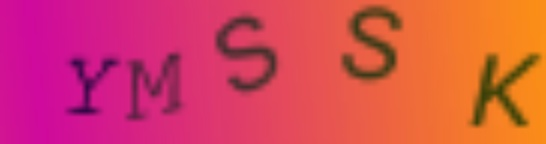K: (470, 47, 543, 130)
M: (124, 52, 184, 123)
S: (212, 11, 283, 95), (338, 5, 405, 84)
Y: (62, 55, 121, 116)
